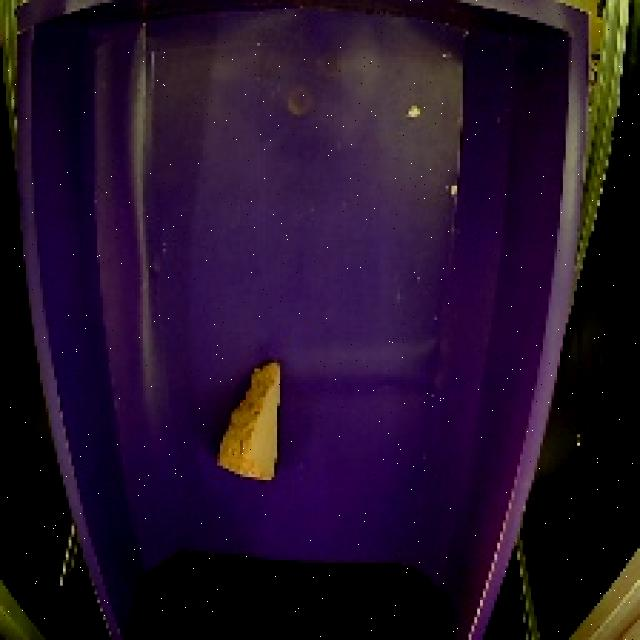brick: (205, 356, 292, 491)
